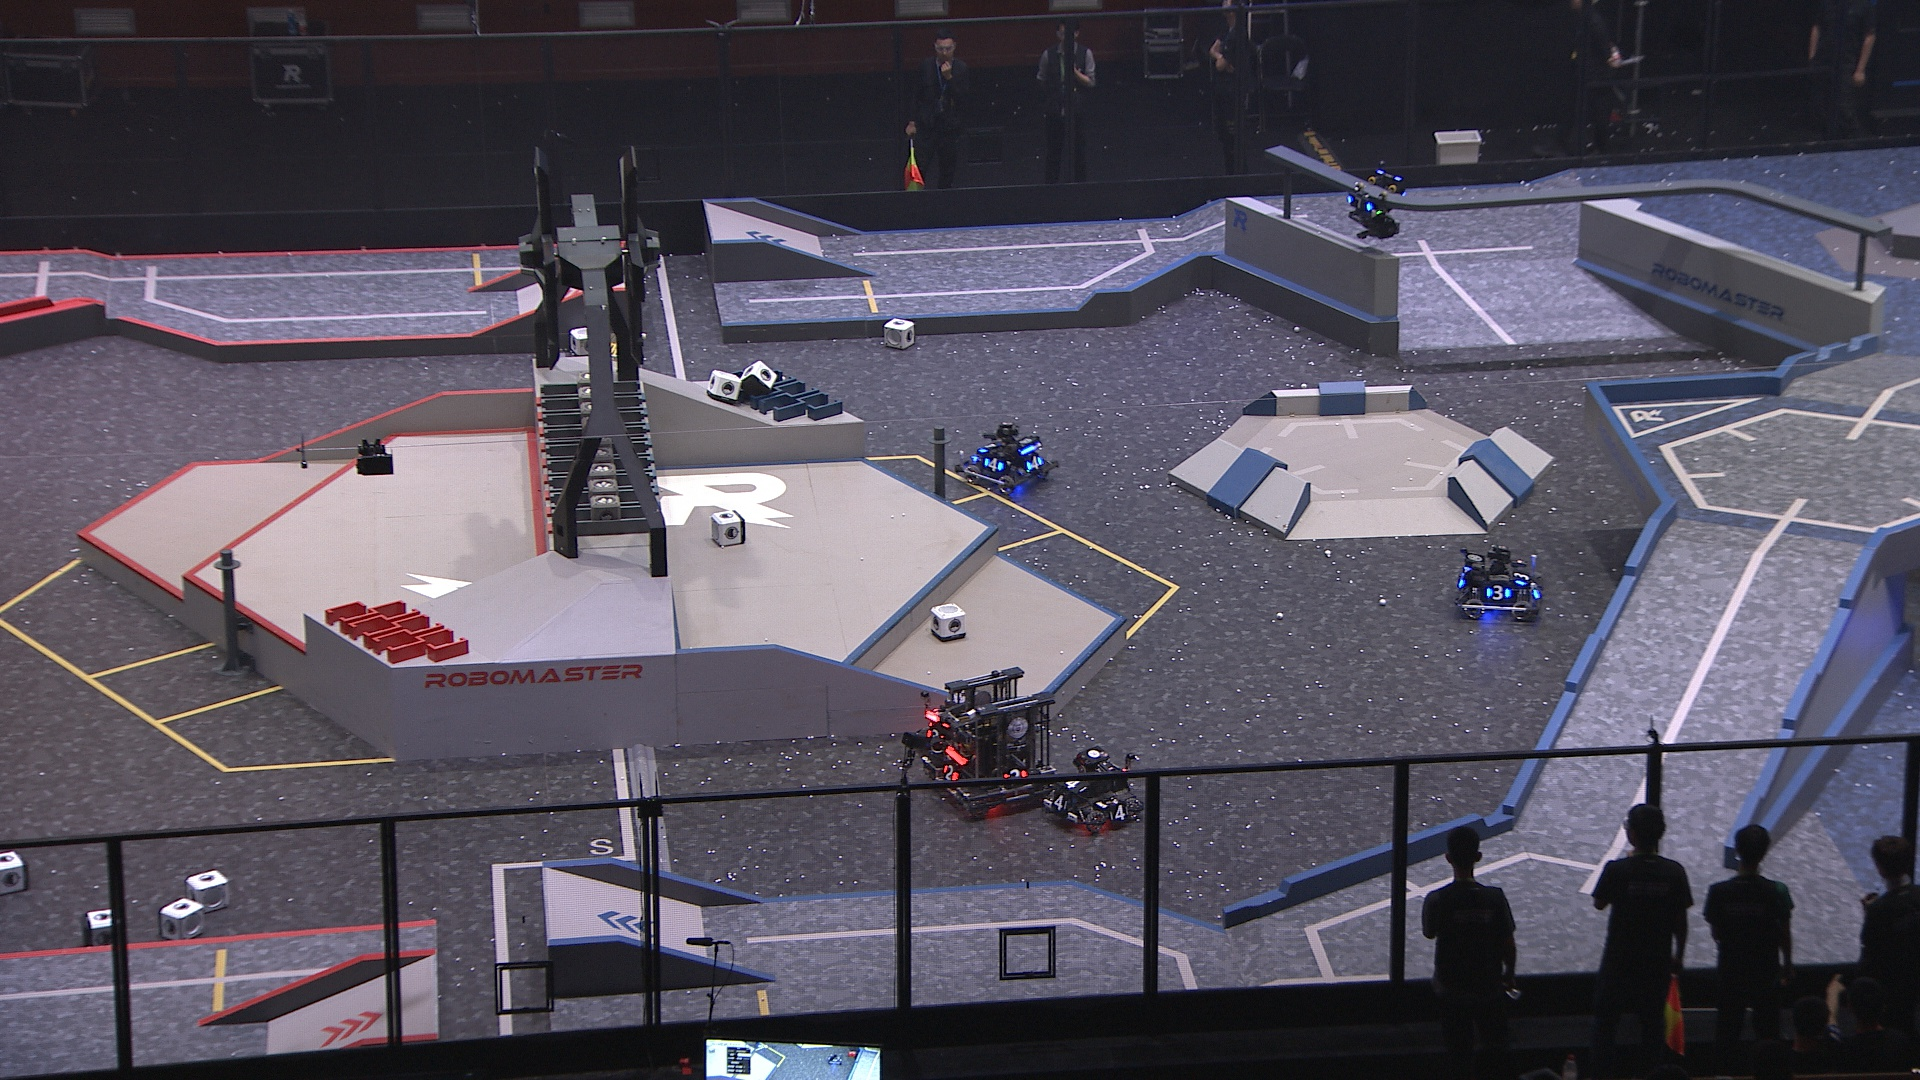armor: (1344, 191, 1375, 214), (1059, 775, 1091, 796), (1482, 583, 1513, 603), (1106, 800, 1130, 825), (1050, 793, 1073, 814), (975, 436, 1001, 454), (940, 760, 959, 783), (984, 456, 1006, 475), (922, 727, 945, 744), (1004, 769, 1029, 785), (1022, 455, 1044, 471), (1514, 567, 1531, 585)
car: (913, 665, 1064, 818), (1039, 741, 1155, 837), (960, 415, 1064, 491), (1455, 542, 1545, 624)
watcher: (1340, 161, 1411, 243)
